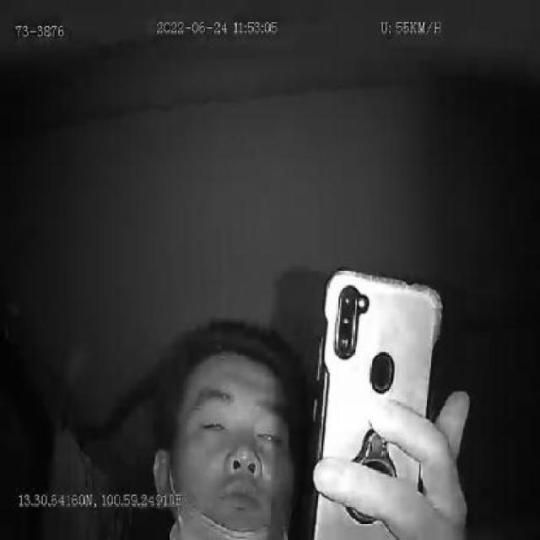phone: (314, 267, 445, 540)
